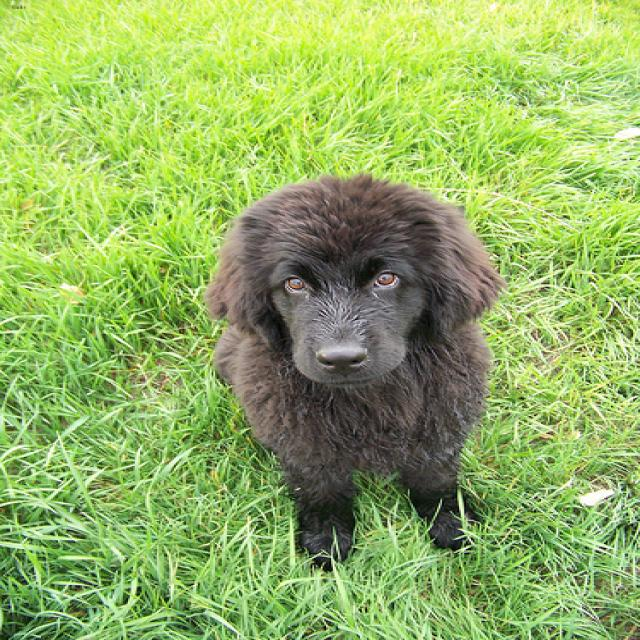dog-newfoundland: (193, 169, 526, 579)
